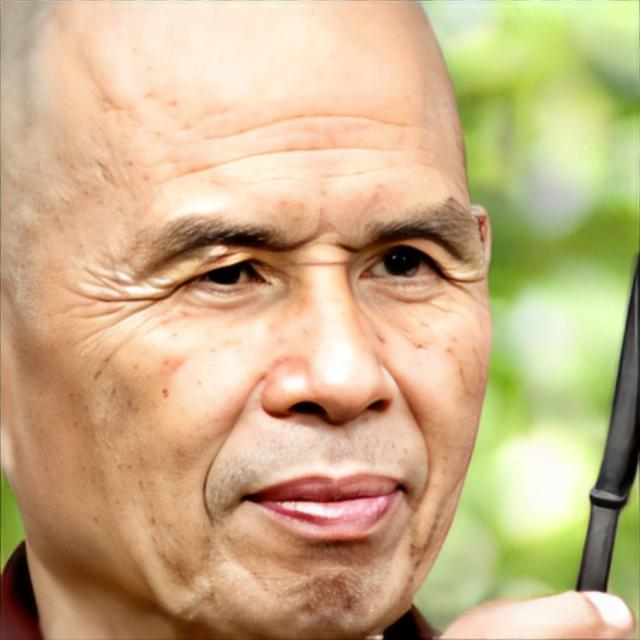anger: (35, 63, 496, 636)
